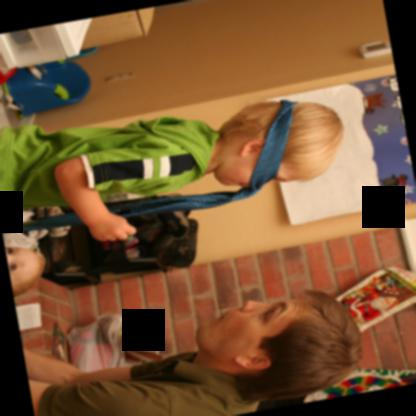handbag: (66, 314, 163, 372)
